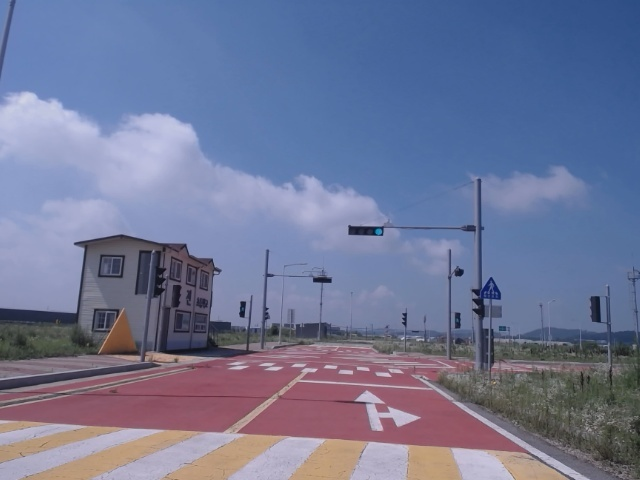straight_green_4: (348, 227, 384, 236)
